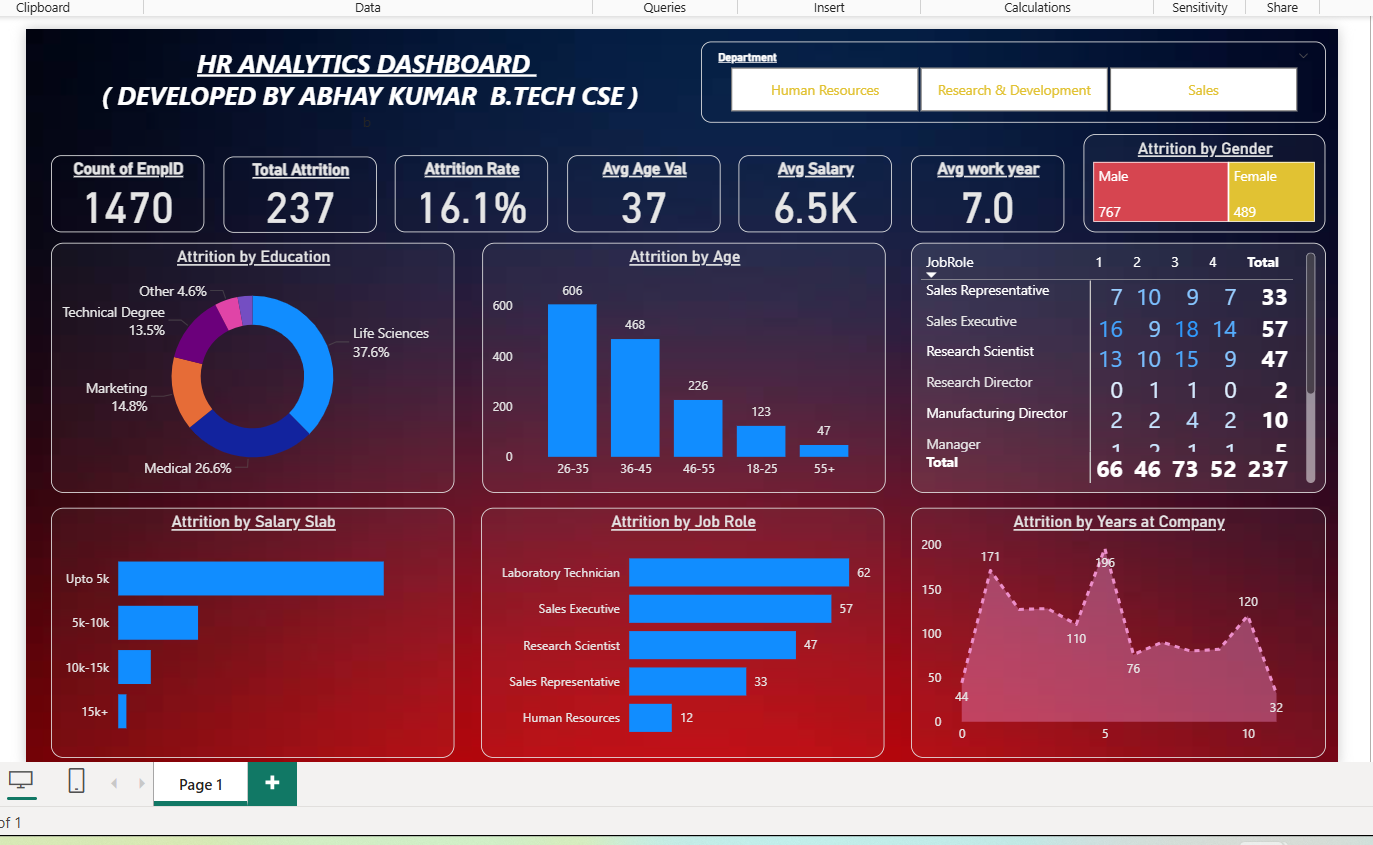

This screenshot's page, from the dashboard's own definition file:
{"tool":"powerbi","page":{"name":"Page 1","canvas":[1280,720],"ordinal":0},"visuals":[{"type":"card","title":"Count of EmpID","fields":{"Values":["Sum(HR_Analytics.EmployeeCount)"]},"box":[24.7,123.5,149.6,75.5],"z":0},{"type":"card","title":"Total Attrition","fields":{"Values":["Sum(HR_Analytics.Attrition Count)"]},"box":[192.4,124.9,149.6,74.1],"z":1000},{"type":"card","title":"Attrition Rate","fields":{"Values":["HR_Analytics.Attrition Rate"]},"box":[360.1,123.5,149.6,75.5],"z":2000},{"type":"card","title":"Avg Age Val ","fields":{"Values":["Avg(HR_Analytics.Age)"]},"box":[527.8,123.5,149.6,75.5],"z":3000},{"type":"card","title":"Avg Salary","fields":{"Values":["Avg(HR_Analytics.MonthlyIncome)"]},"box":[695.4,123.5,149.6,75.5],"z":4000},{"type":"card","title":"Avg work year","fields":{"Values":["Avg(HR_Analytics.YearsAtCompany)"]},"box":[863.1,123.5,149.6,75.5],"z":5000},{"type":"donutChart","title":"Attrition by Education","fields":{"Category":["HR_Analytics.EducationField"],"Y":["Sum(HR_Analytics.Attrition Count)"]},"box":[24.7,208.6,393.8,244.3],"z":6000},{"type":"columnChart","title":"Attrition by Age","fields":{"Category":["HR_Analytics.AgeGroup"],"Y":["CountNonNull(HR_Analytics.Attrition)"]},"box":[444.6,208.6,393.8,244.3],"z":7000},{"type":"pivotTable","fields":{"Rows":["HR_Analytics.JobRole"],"Columns":["HR_Analytics.JobSatisfaction"],"Values":["Sum(HR_Analytics.Attrition Count)"]},"box":[863.1,208.6,404.8,244.3],"z":8000},{"type":"barChart","title":"Attrition by Salary Slab","fields":{"Category":["HR_Analytics.SalarySlab"],"Y":["Sum(HR_Analytics.Attrition Count)"]},"box":[24.7,466.6,393.8,244.3],"z":9000},{"type":"barChart","title":"Attrition by Job Role","fields":{"Y":["Sum(HR_Analytics.Attrition Count)"],"Category":["HR_Analytics.JobRole"]},"box":[443.9,466.6,393.8,244.3],"z":10000},{"type":"areaChart","title":"Attrition by Years at Company","fields":{"Category":["HR_Analytics.YearsAtCompany"],"Y":["CountNonNull(HR_Analytics.Attrition)"]},"box":[863.1,466.6,404.8,244.3],"z":11000},{"type":"treemap","title":"Attrition by Gender","fields":{"Values":["CountNonNull(HR_Analytics.Attrition)"],"Details":["HR_Analytics.Gender"]},"box":[1031.9,102.9,236,96.1],"z":12000},{"type":"slicer","fields":{"Values":["HR_Analytics.Department"]},"box":[658.7,12.3,609.3,79.6],"z":13000},{"type":"textbox","box":[24.7,12.3,616.1,111.1],"z":14000}]}

Visuals, with their boxes in screenshot pixels (x1, y1, x2, y2):
"Count of EmpID" card: select_region(23, 141, 181, 221)
"Total Attrition" card: select_region(200, 143, 358, 221)
"Attrition Rate" card: select_region(377, 141, 536, 221)
"Avg Age Val " card: select_region(555, 141, 713, 221)
"Avg Salary" card: select_region(732, 141, 890, 221)
"Avg work year" card: select_region(909, 141, 1068, 221)
"Attrition by Education" donutChart: select_region(23, 231, 439, 490)
"Attrition by Age" columnChart: select_region(467, 231, 883, 490)
pivotTable - HR_Analytics.JobRole x HR_Analytics.JobSatisfaction: select_region(909, 231, 1338, 490)
"Attrition by Salary Slab" barChart: select_region(23, 504, 439, 763)
"Attrition by Job Role" barChart: select_region(466, 504, 883, 763)
"Attrition by Years at Company" areaChart: select_region(909, 504, 1338, 763)
"Attrition by Gender" treemap: select_region(1088, 120, 1338, 221)
slicer - HR_Analytics.Department: select_region(693, 24, 1338, 108)
textbox: select_region(23, 24, 674, 141)
